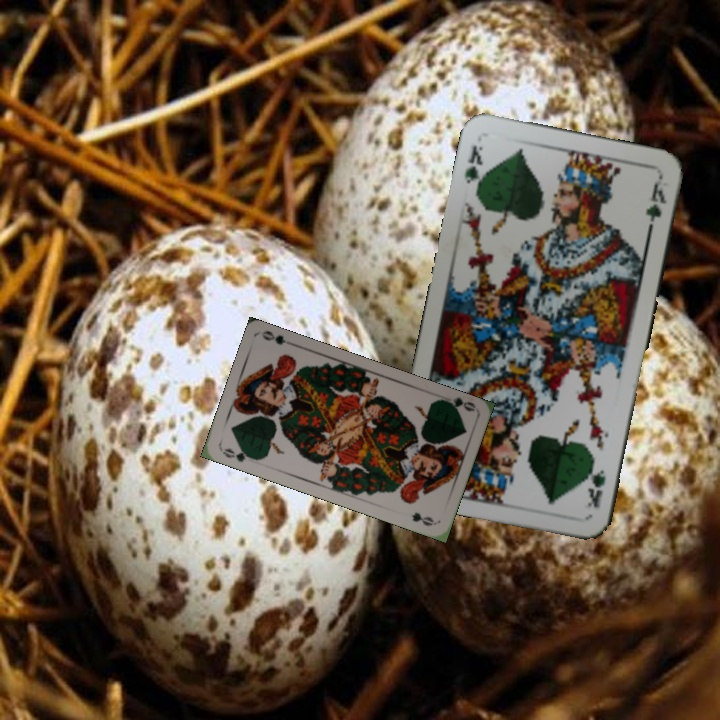GK: (583, 456, 609, 511), (460, 141, 486, 196)
GO: (436, 393, 477, 415), (219, 444, 258, 465)
